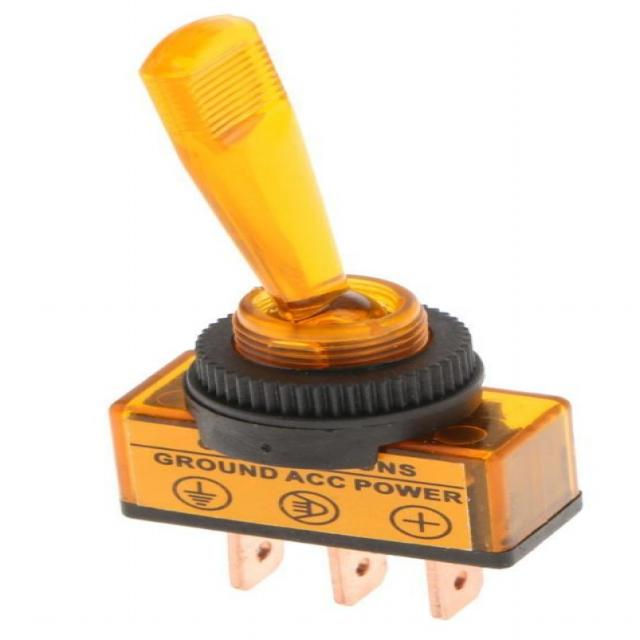toggle switch: (137, 11, 490, 473)
